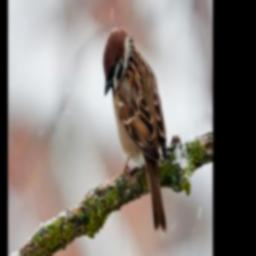Sparrow: (102, 25, 169, 232)
